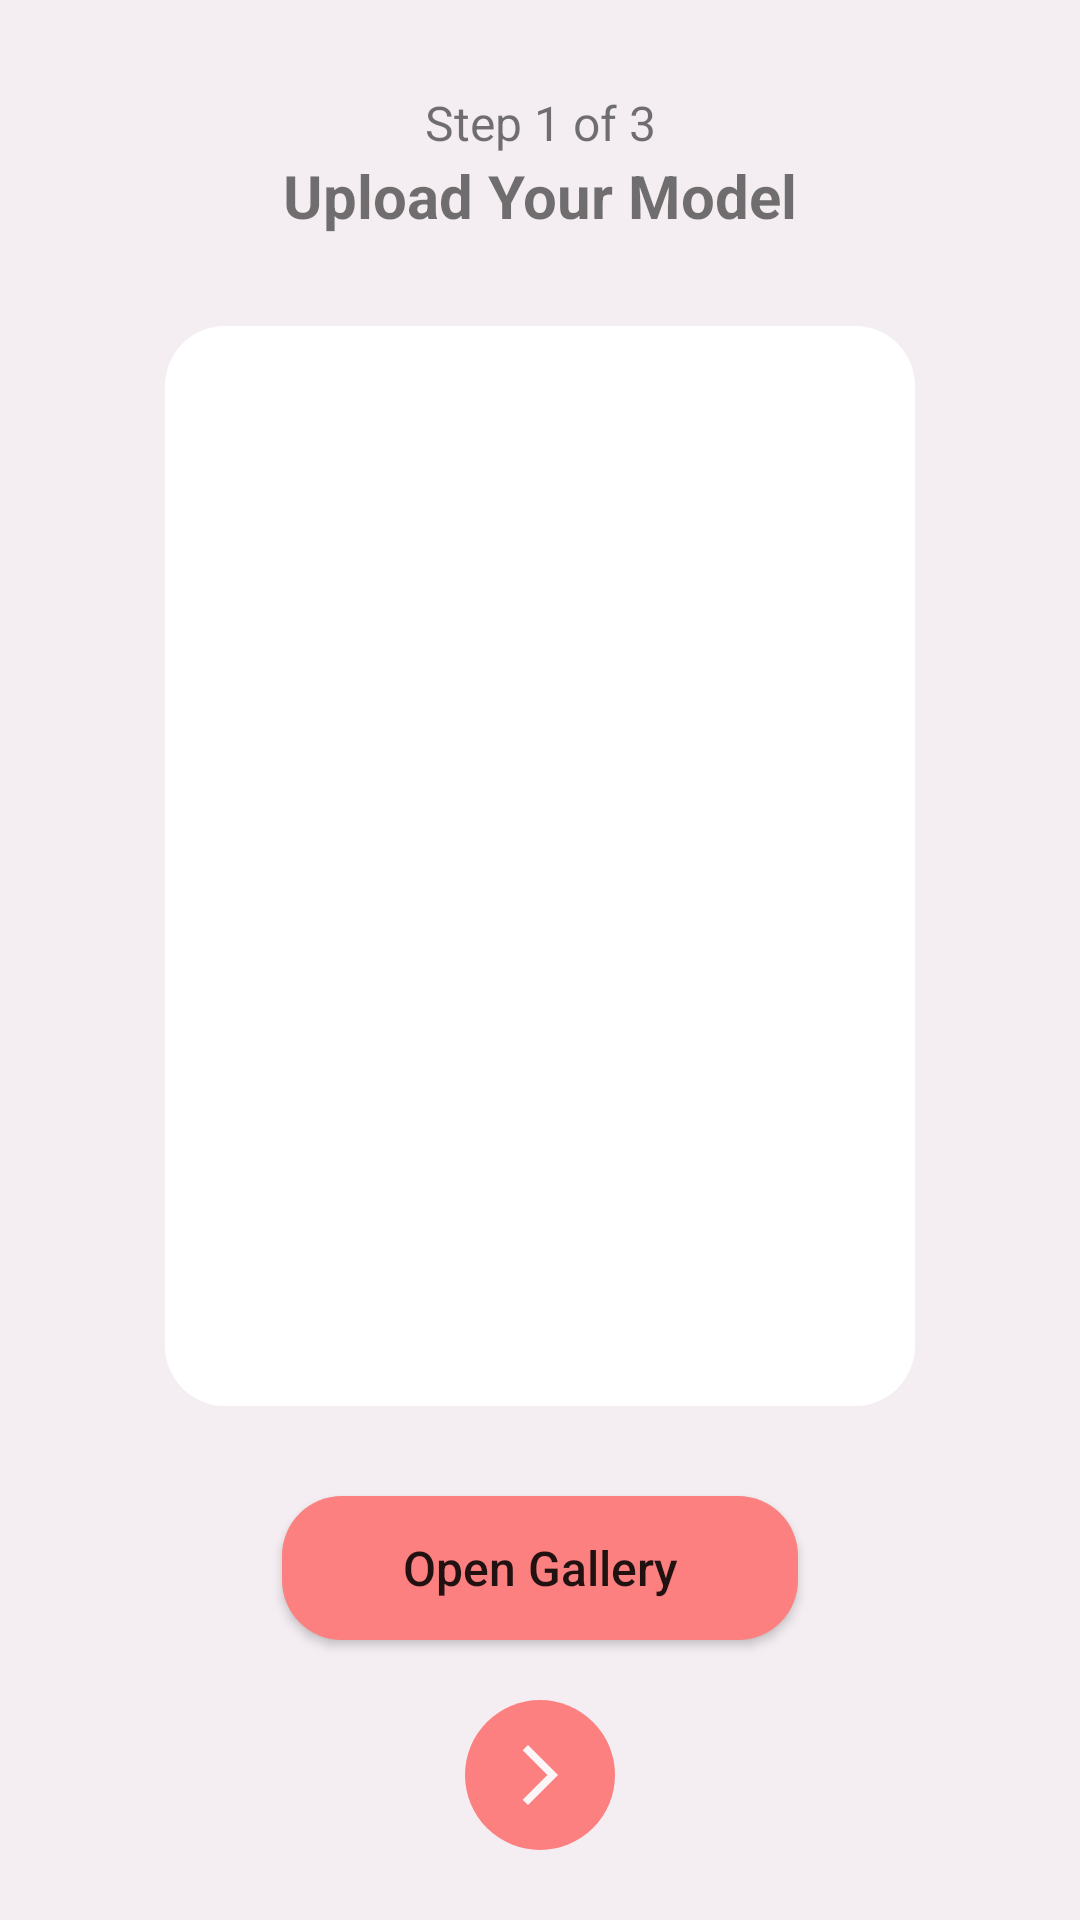

Icons on this 1080*1920 Android screen, each with the point to tap as (x=x, y=y):
forward: (x=540, y=1775)
